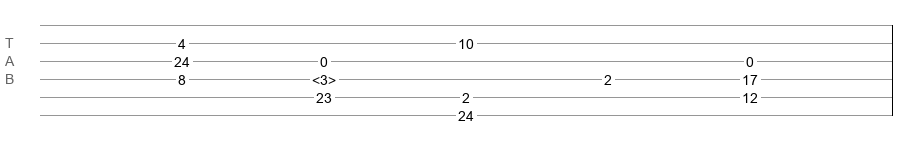0: (320, 54, 328, 64), (746, 54, 754, 64)
10: (458, 36, 474, 46)
12: (742, 90, 758, 100)
17: (742, 72, 758, 82)
2: (462, 90, 470, 100), (604, 72, 612, 82)
23: (316, 90, 332, 100)
24: (174, 54, 190, 64), (458, 108, 474, 118)
4: (178, 36, 186, 46)
8: (178, 72, 186, 82)
harmonic: (312, 72, 336, 82)
